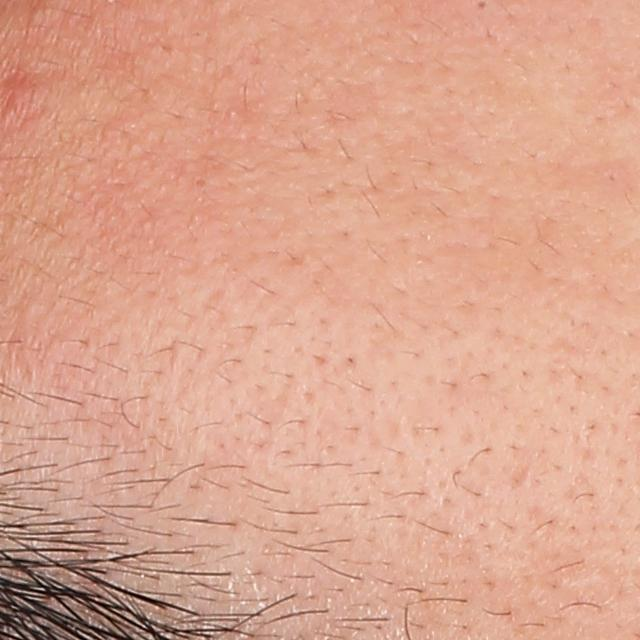comedo: (193, 176, 209, 190)
